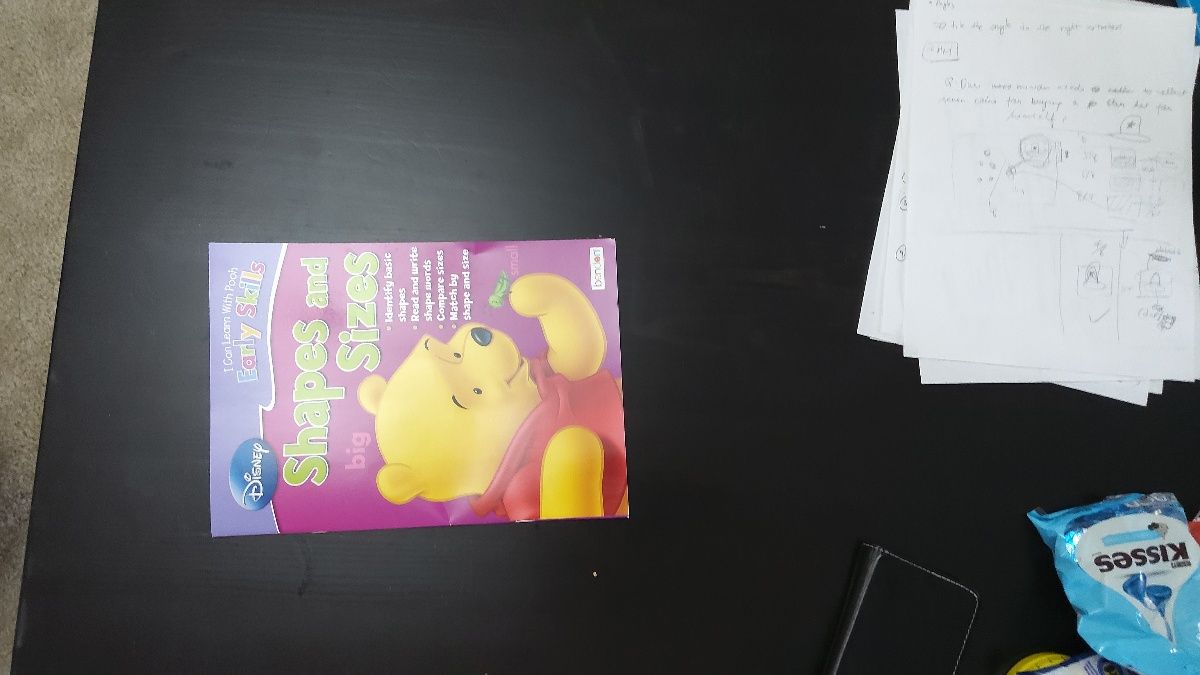book: (213, 246, 623, 519)
